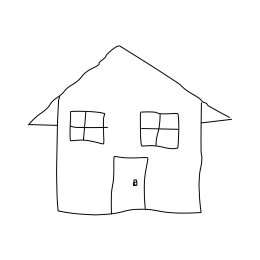closed_window: (135, 108, 182, 154), (66, 108, 110, 148)
door: (105, 151, 152, 217)
single_line_roof: (13, 40, 245, 128)
wall: (52, 101, 205, 220)
